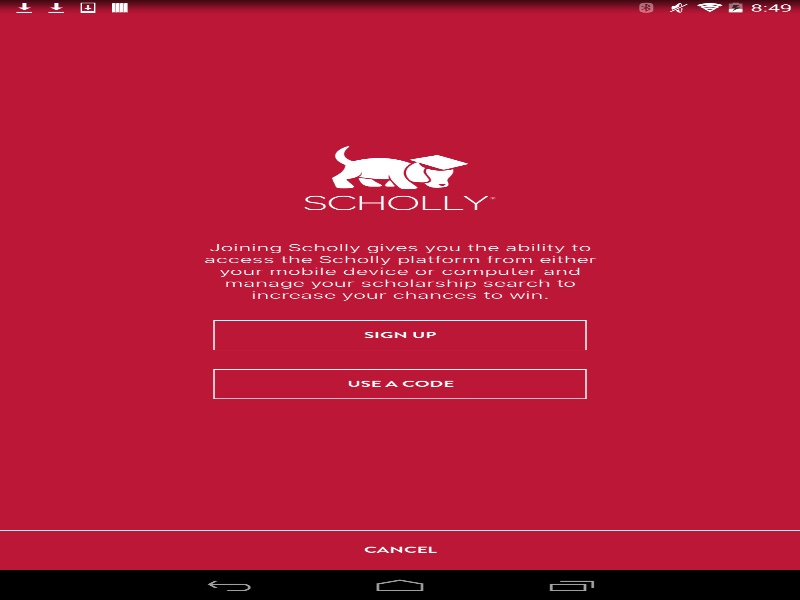Button: (0, 530, 800, 570), (213, 320, 586, 350), (213, 369, 586, 399), (0, 530, 266, 570), (267, 530, 533, 570), (534, 530, 800, 570), (227, 436, 572, 466), (297, 536, 501, 566), (299, 300, 500, 330), (282, 518, 517, 536)
Input: (200, 230, 600, 256), (200, 275, 600, 300)
